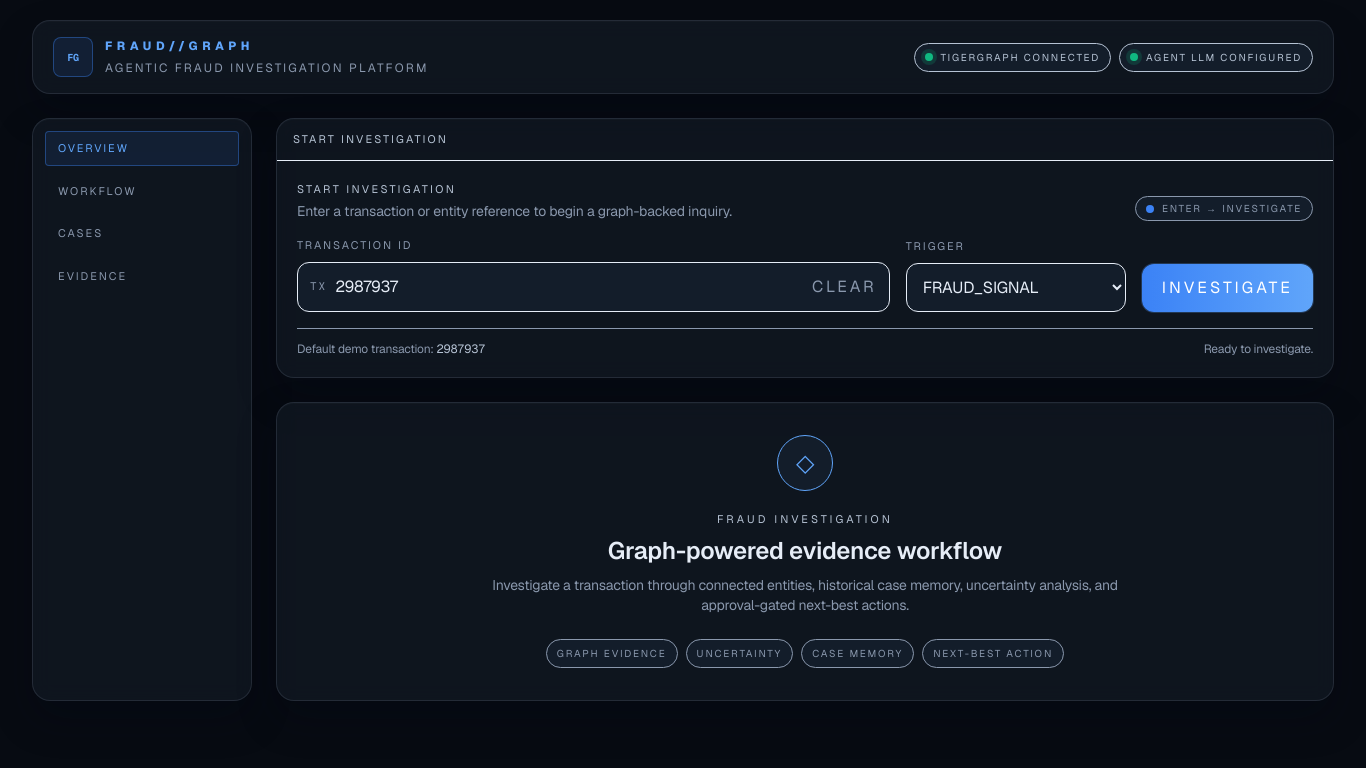
Test: Home page - full investigation flow › shows a friendly error when the API is unreachable, never a raw network stack trace
Click the button "INVESTIGATE": (1227, 288) [1142,264,1313,312]
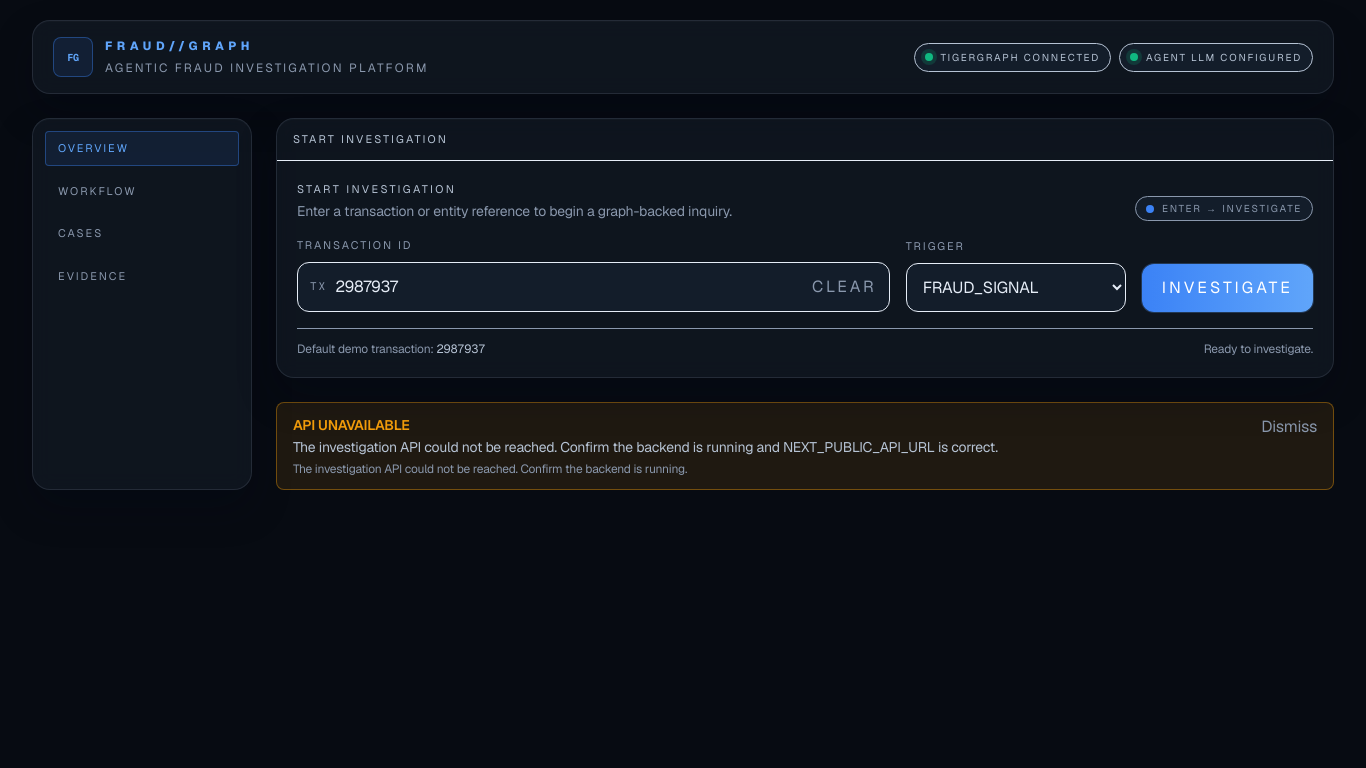
Check: the text "could not be reached" is shown, box [293,438,998,456]
